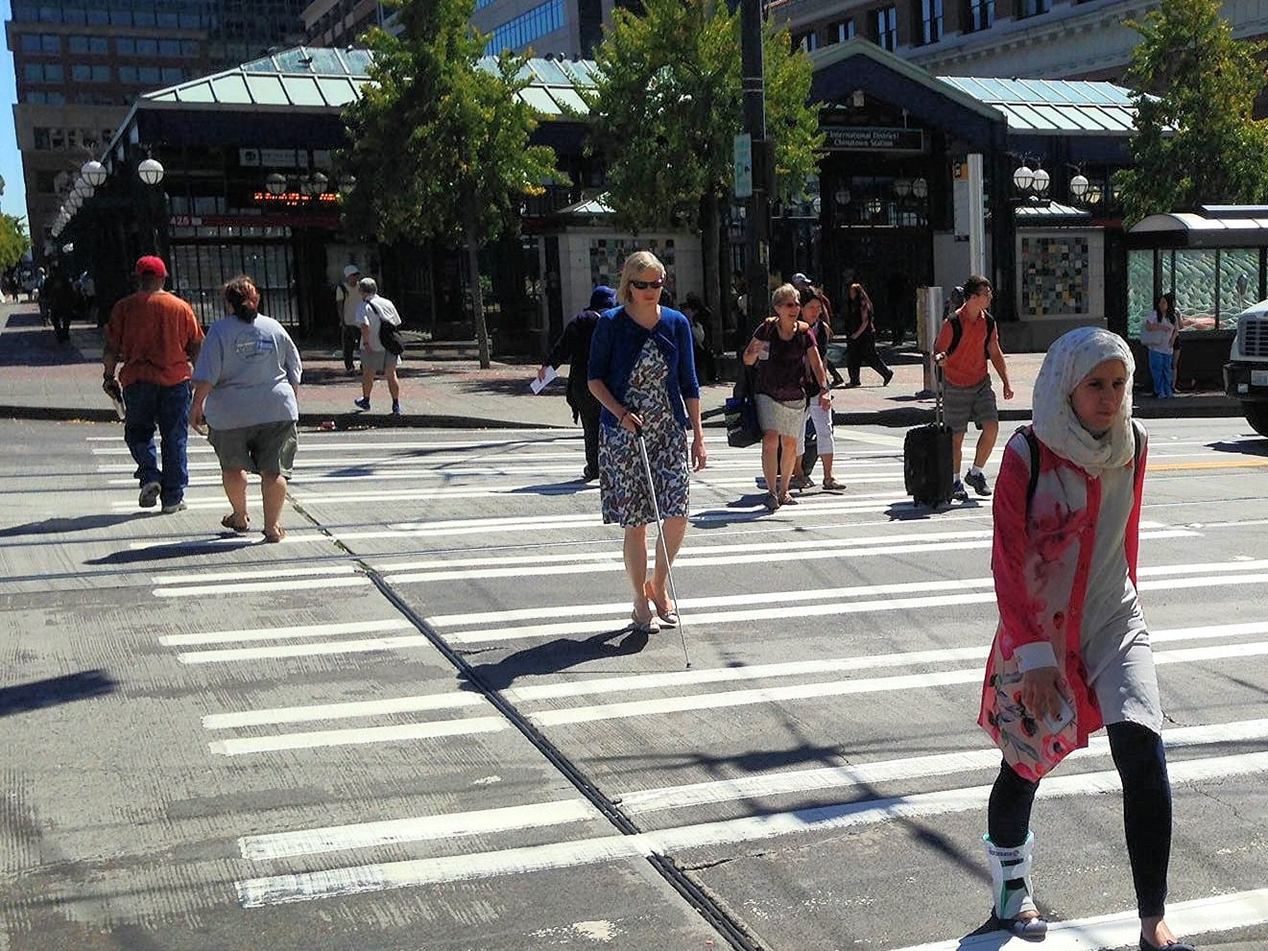Crosswalk: (151, 533, 979, 951)
Person: (987, 322, 1204, 951), (560, 243, 693, 641), (92, 253, 208, 520), (194, 274, 302, 544), (737, 283, 827, 516), (930, 268, 1007, 501), (344, 276, 417, 422)
